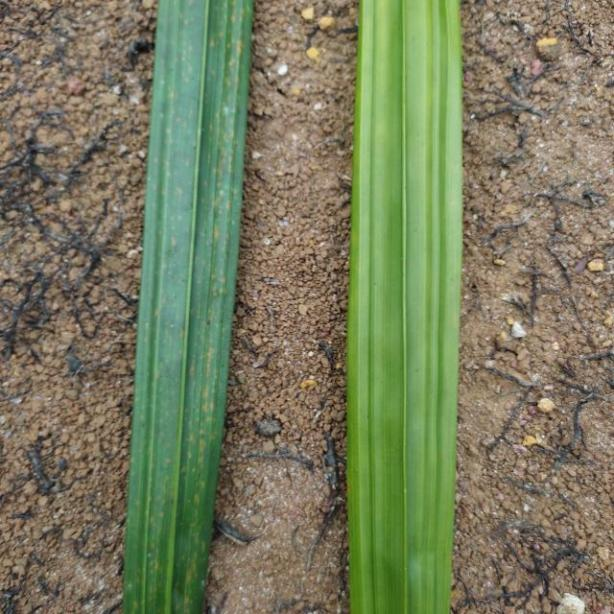nitrogen: (345, 0, 460, 614)
